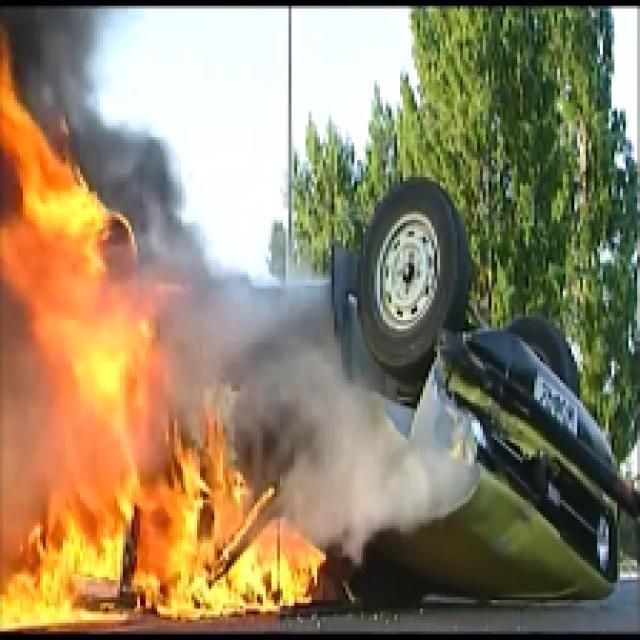Fire: (0, 20, 371, 625)
Smoke: (25, 0, 248, 271)
